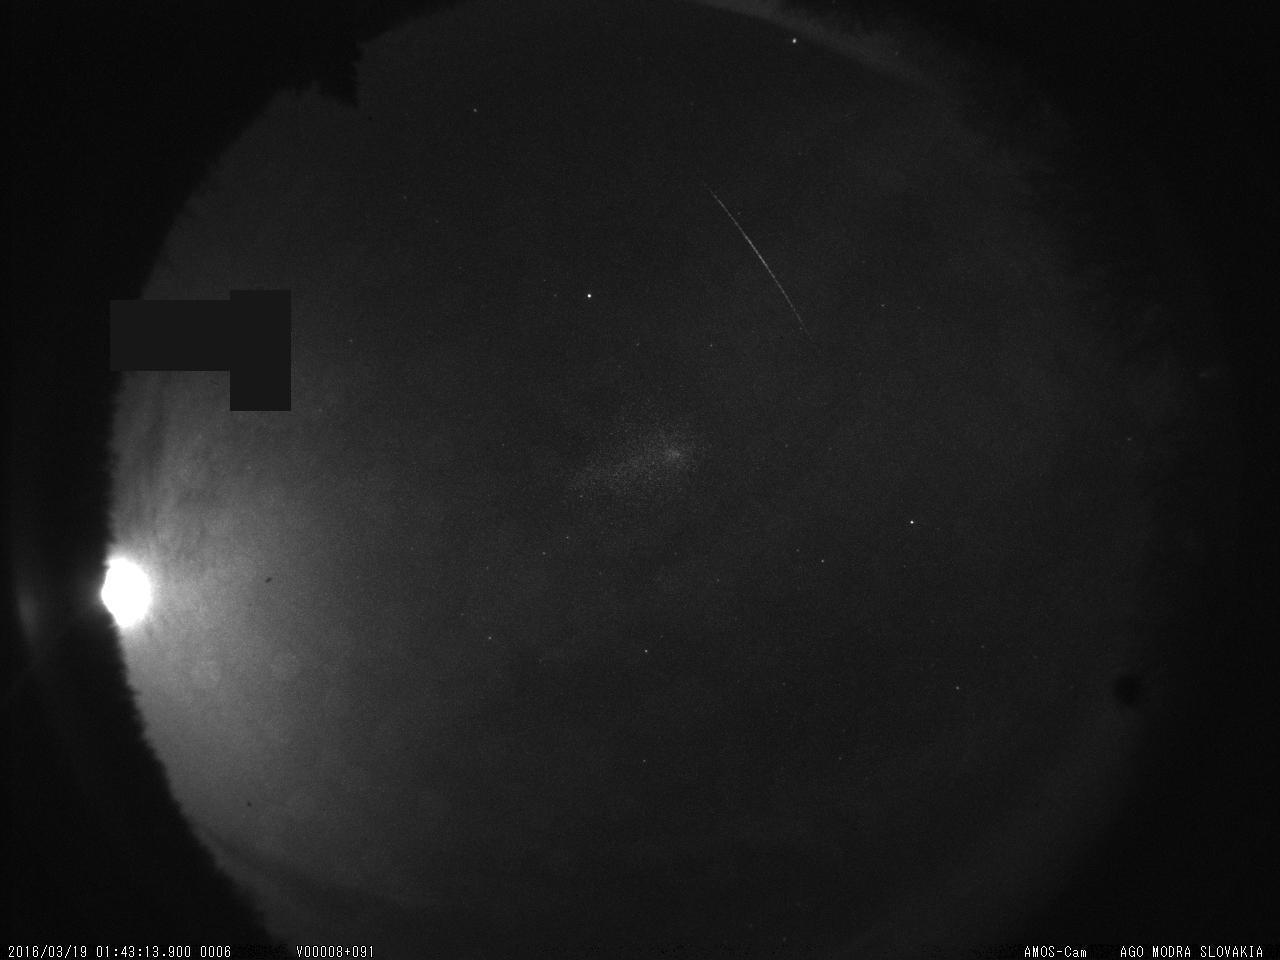meteor: (684, 168, 839, 365)
